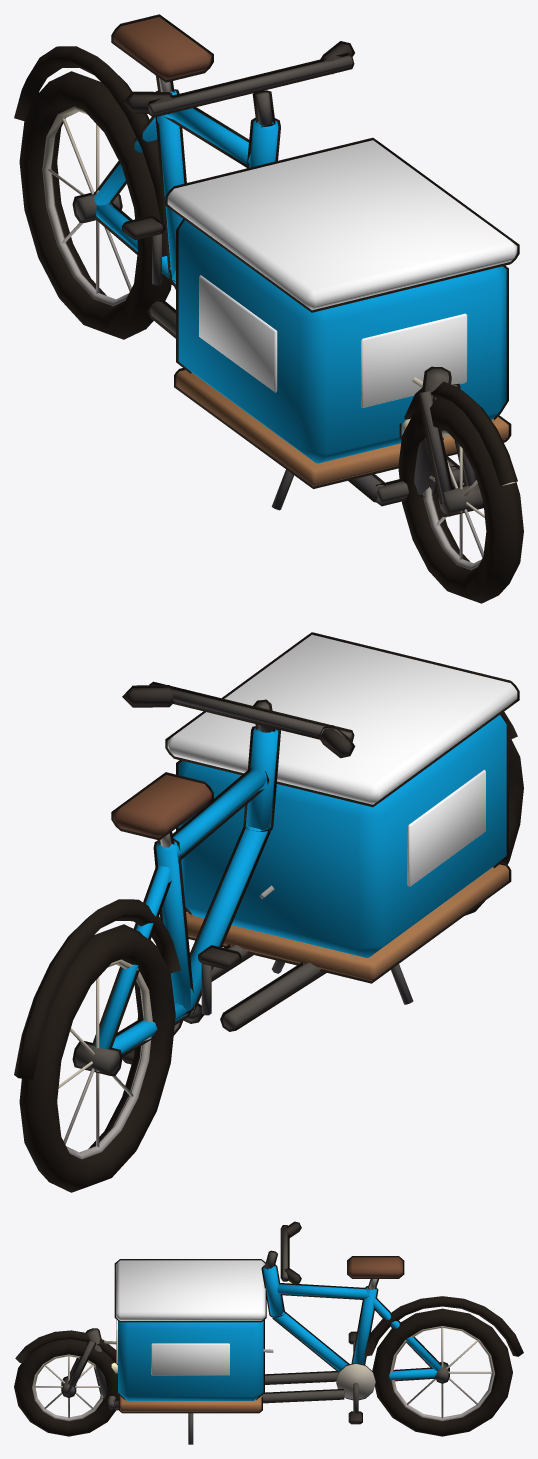
File: KargoBisikleti.fbx
3 renders of one model, top to bottom at view 1: azimuth 30°, elevation 25°; view 2: azimuth 150°, elevation 25°; view 3: azimuth 270°, elevation 25°, orthographic. The views are drawn at different scales.
Visible parts, largest first — view 1: KargoBisikleti, Teker_Arka.001, Teker_On.001, Pedal.001; view 2: KargoBisikleti, Teker_Arka.001, Pedal.001, Teker_On.001; view 3: KargoBisikleti, Teker_Arka.001, Teker_On.001, Pedal.001.
Part boxes in pixels (x1,y1,x2,y2): KargoBisikleti: (14, 14, 519, 510); Teker_Arka.001: (19, 71, 171, 339); Teker_On.001: (398, 398, 523, 603); Pedal.001: (122, 215, 165, 285); KargoBisikleti: (14, 632, 519, 1079); Teker_Arka.001: (19, 924, 175, 1192); Pedal.001: (122, 945, 241, 1064); Teker_On.001: (465, 735, 523, 915); KargoBisikleti: (15, 1221, 523, 1444); Teker_Arka.001: (372, 1308, 512, 1436); Teker_On.001: (14, 1339, 118, 1436); Pedal.001: (336, 1331, 375, 1424).
Size of the model in its own units: 0.6895 by 1.05 by 2.59.
5 materials, 1 textured.
